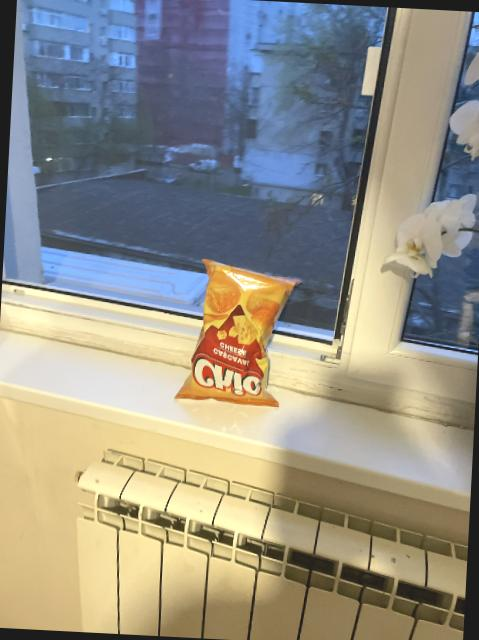Chio Cascaval 125g: (176, 259, 302, 406)
